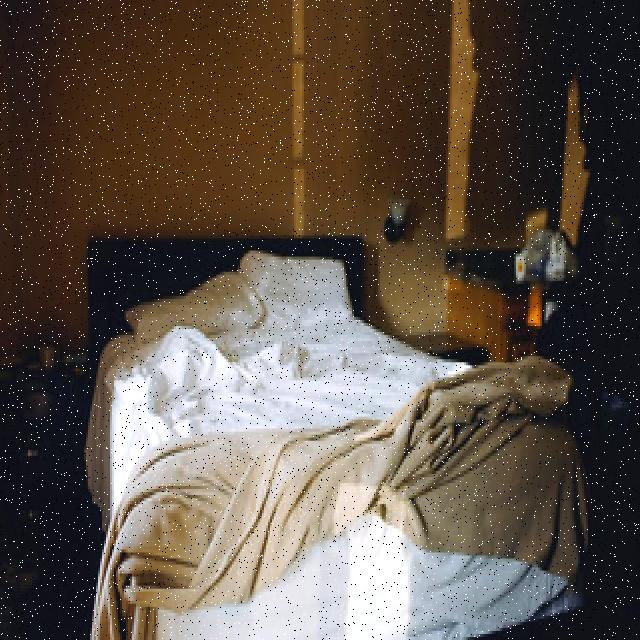bed: (86, 235, 554, 640)
